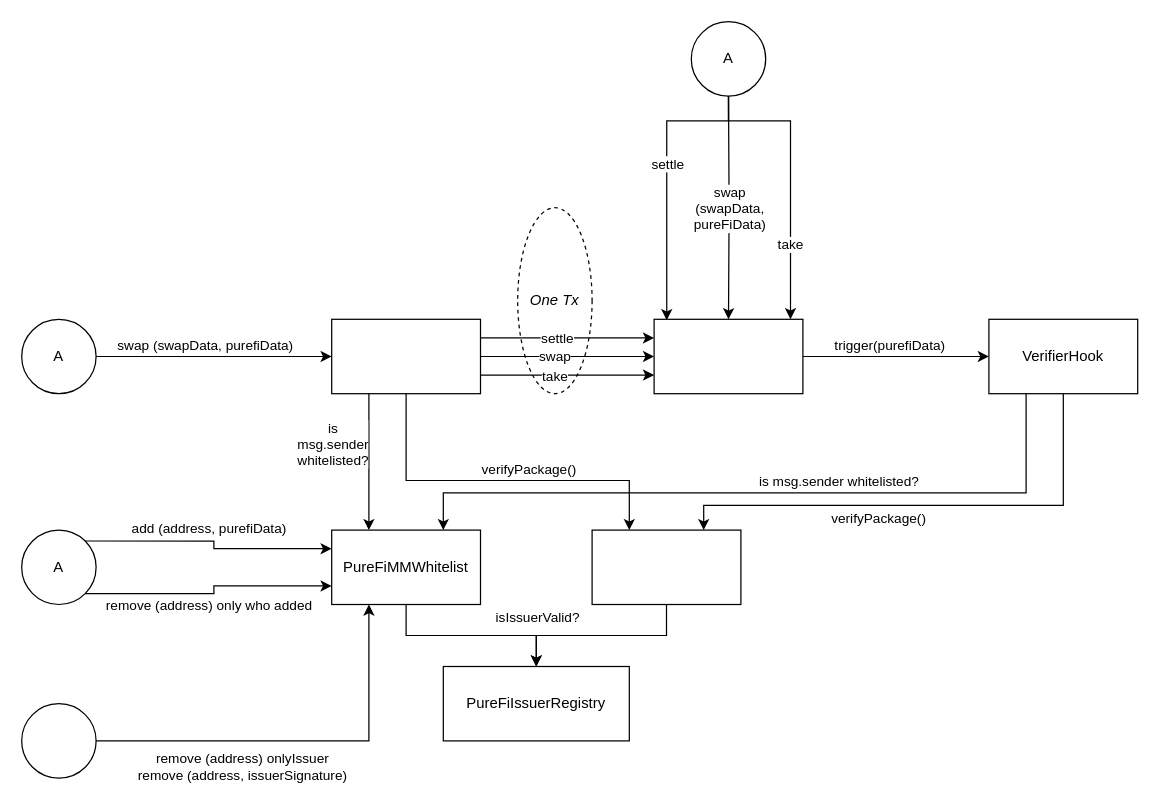
Some shapes in this 1159 by 804 pixel diagram are drawn without their labels. The box of each missing label's shape, as (x1, y1, x2, y2) in pixels:
Issuer: (20, 702, 96, 778)
PoolManager: (653, 318, 803, 394)
PureFi Verifier: (591, 529, 741, 604)
PureFiSwapRouter: (330, 318, 480, 394)
